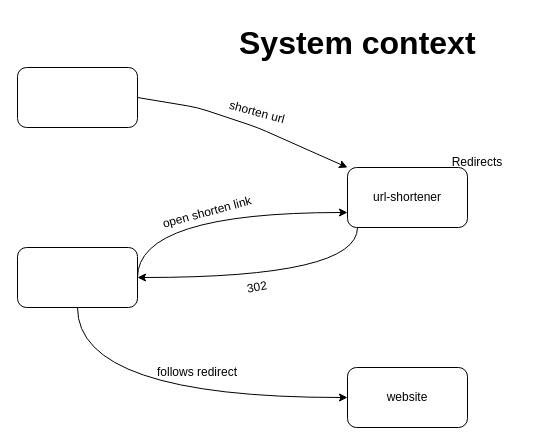
This 535x445 diagram has some shape labels left out. Each missing label, with the box of its shape:
Publisher: (16, 66, 138, 128)
Visitor: (16, 246, 138, 308)
